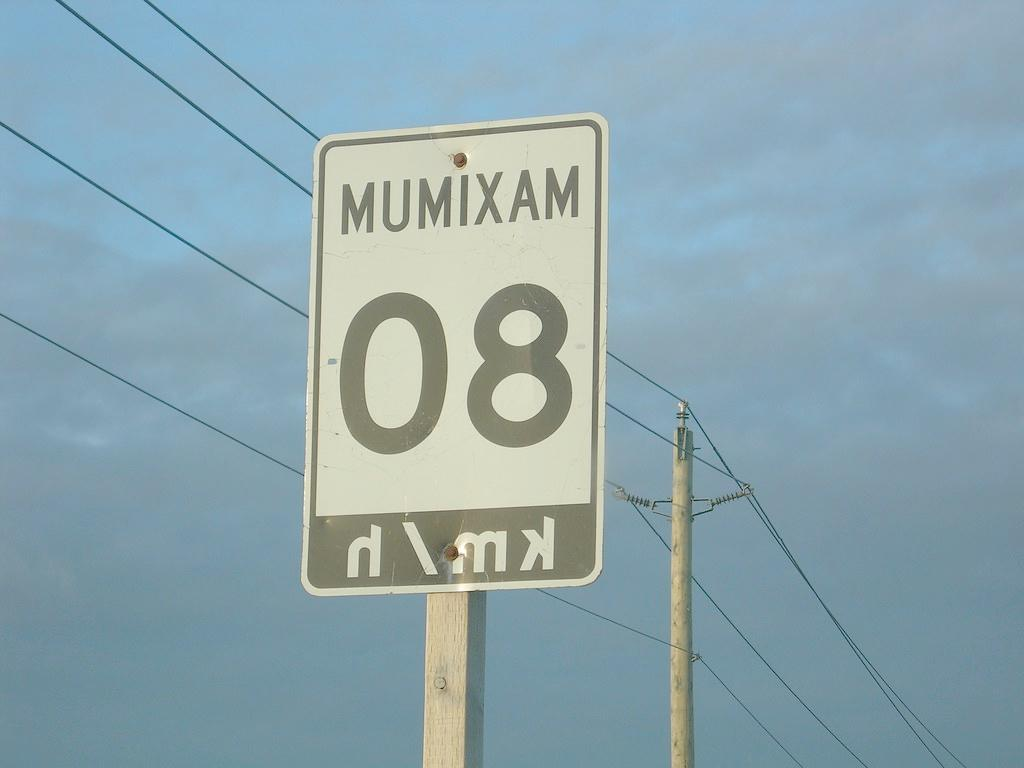speed limit sign: (292, 112, 614, 604)
